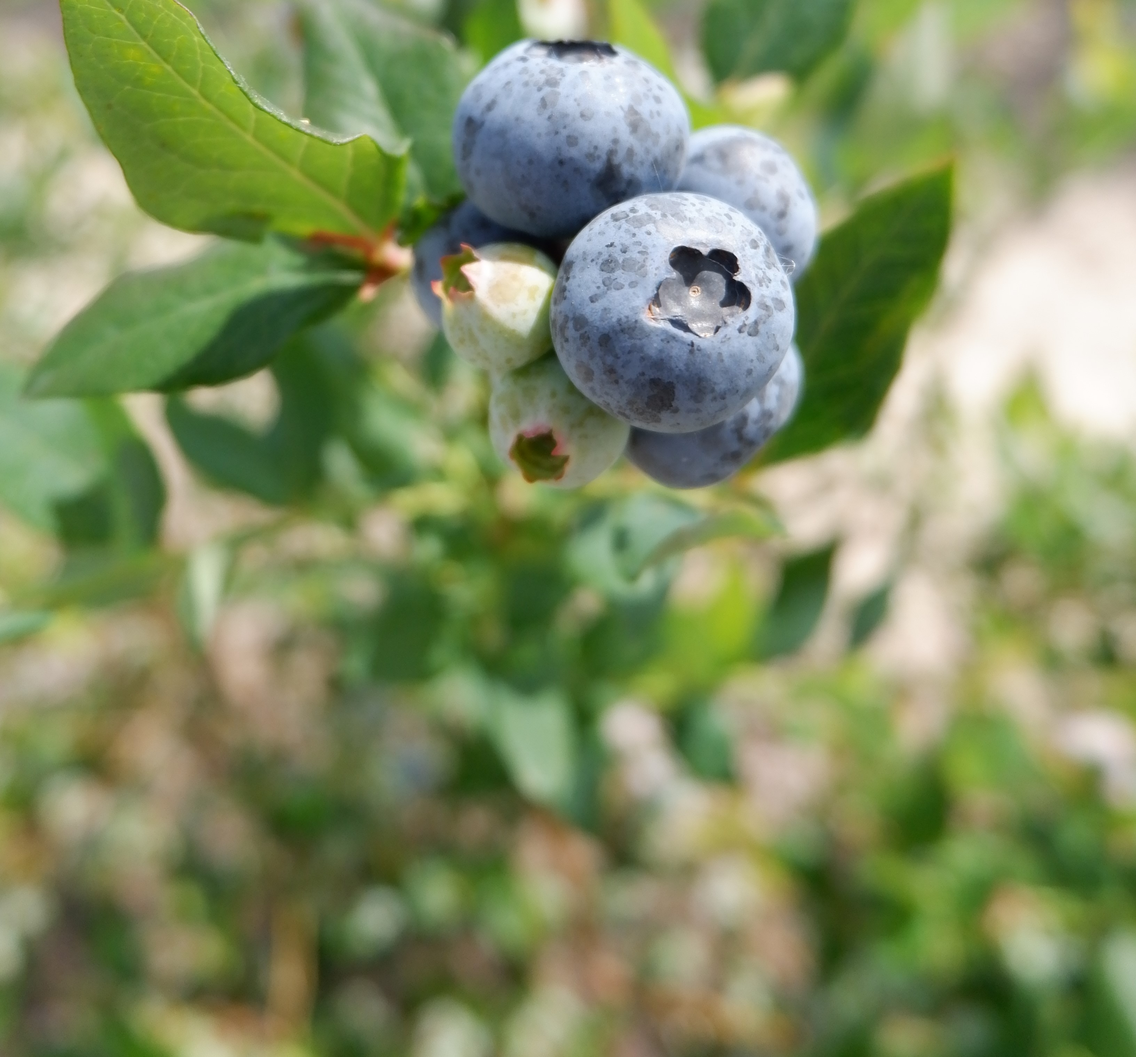Immature: (489, 354, 629, 488), (440, 243, 553, 375)
Mature: (549, 192, 792, 425), (454, 43, 688, 234), (627, 347, 804, 485), (668, 127, 814, 272), (414, 201, 530, 325)
